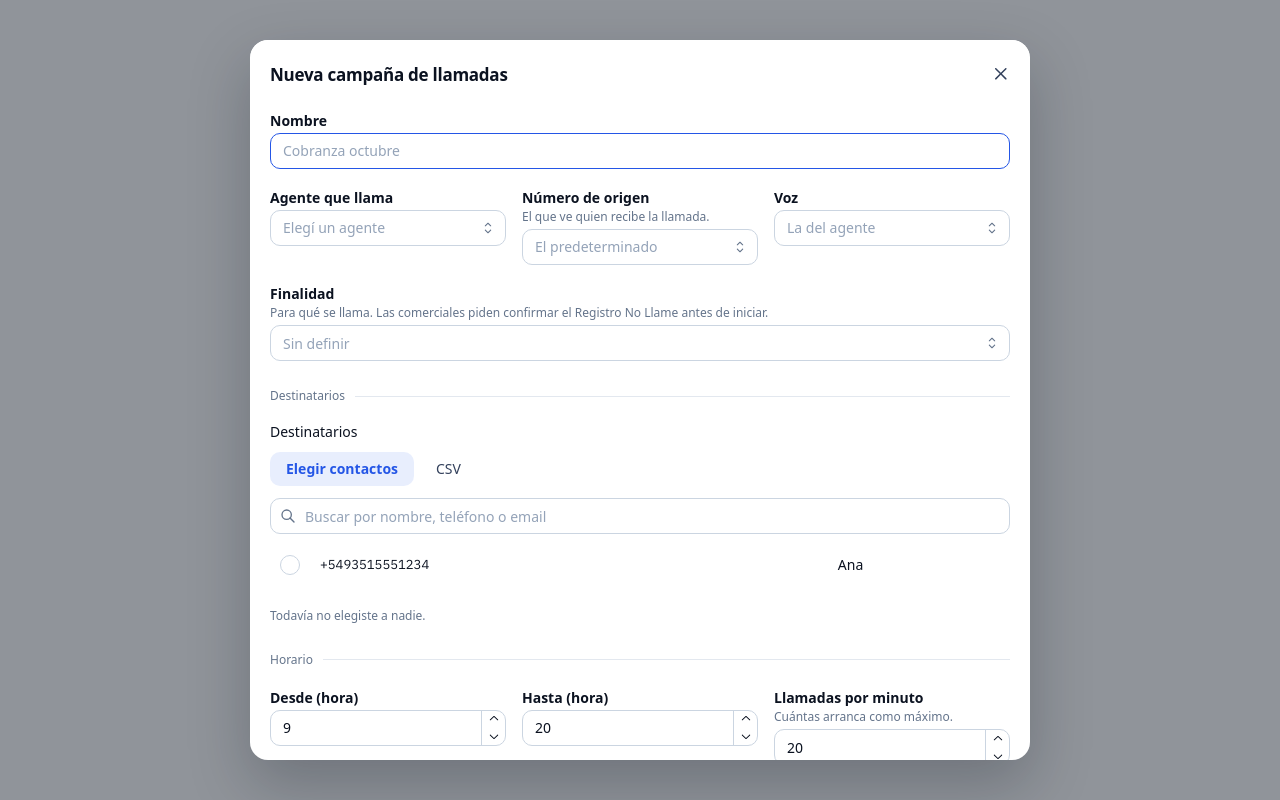
Test: campañas: alta de llamadas › sin destinatarios no crea
Type "Vacía" into the field labelled "Nombre". click: x=640, y=151
box: [270,133,1010,169]
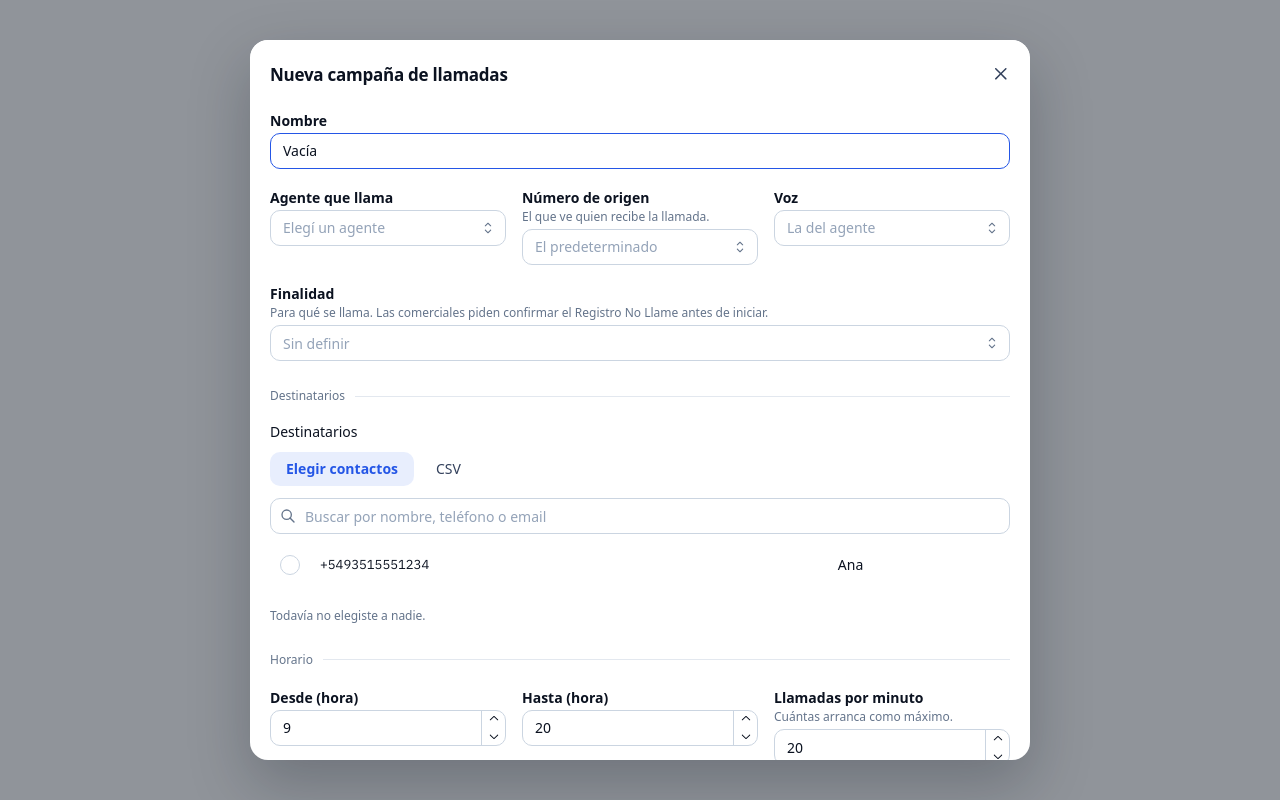
Click the field labelled "Agente que llama". click: x=388, y=228
box: [270,210,506,246]
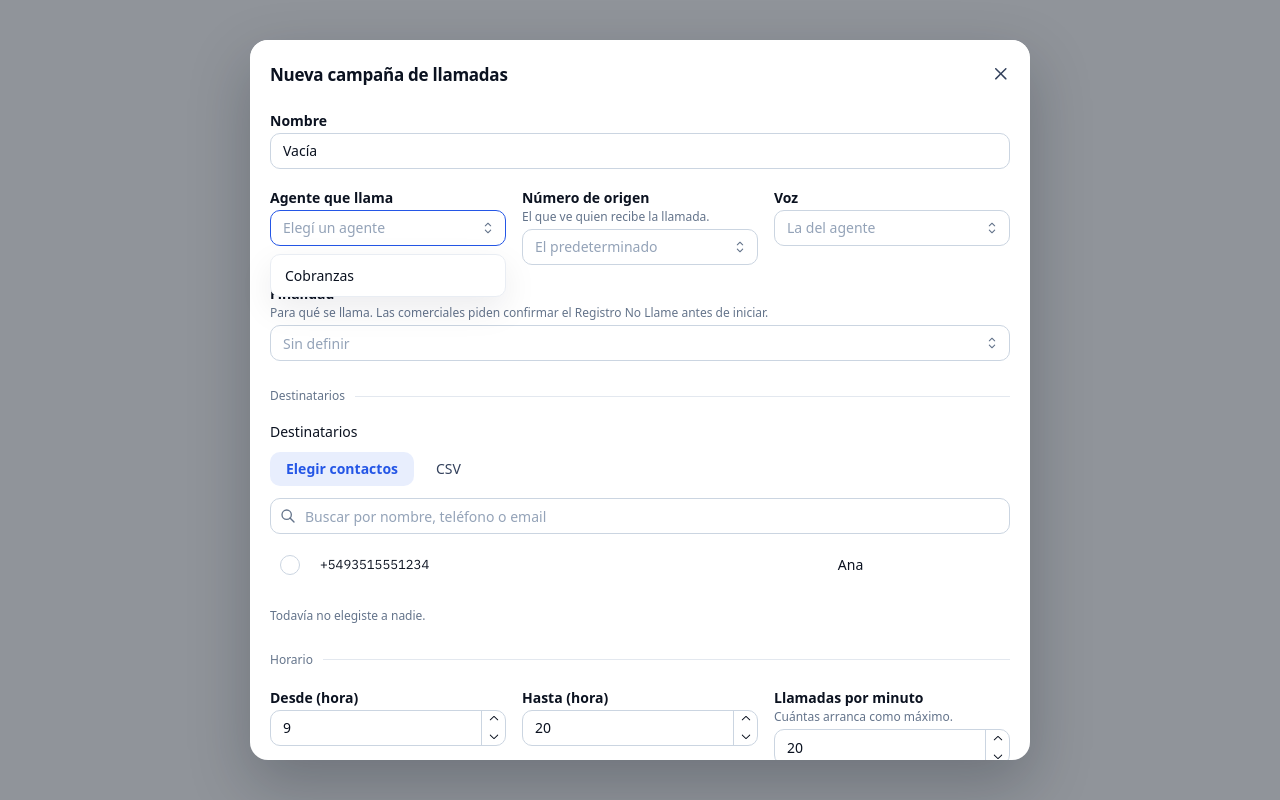
Click the option "Cobranzas". click: x=320, y=275
box: [285,266,354,285]
(page scrolled)
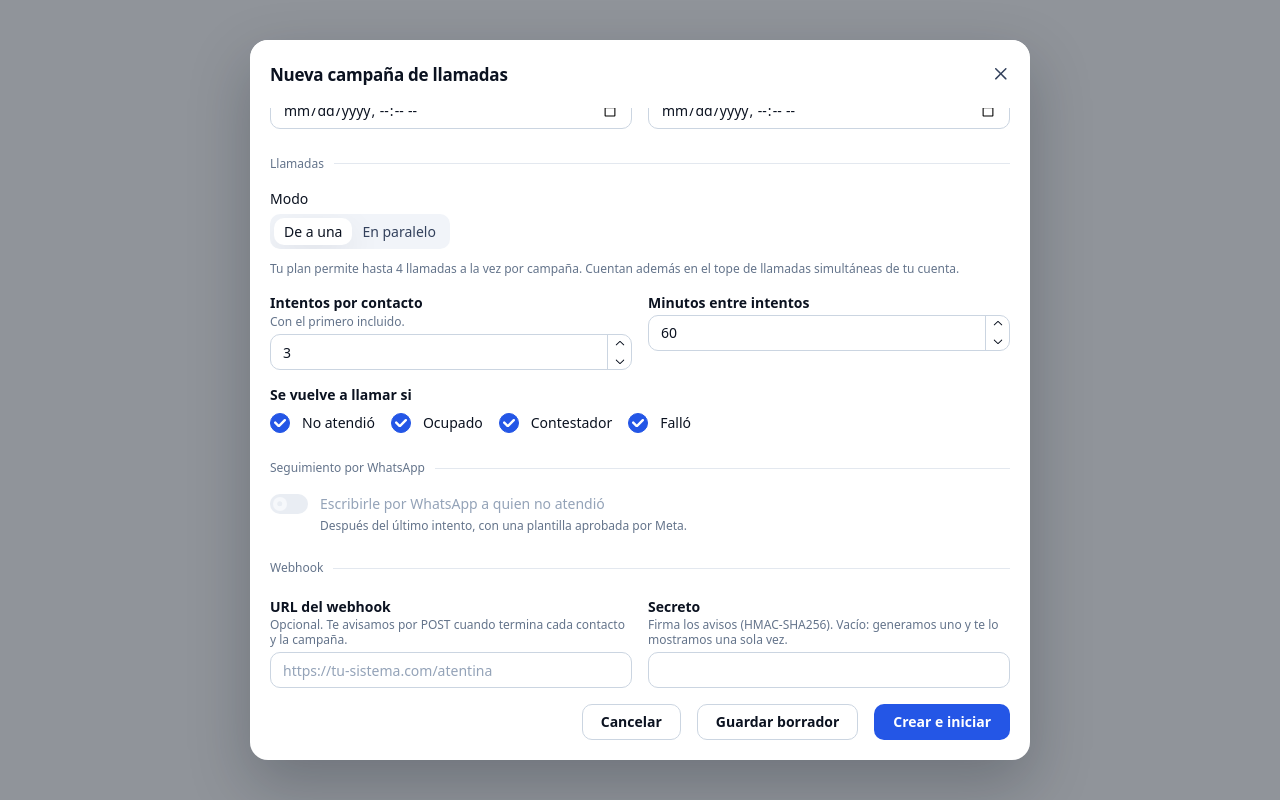
Click the button "Guardar borrador". click: x=778, y=722
box: [697,704,858,740]
(page scrolled)
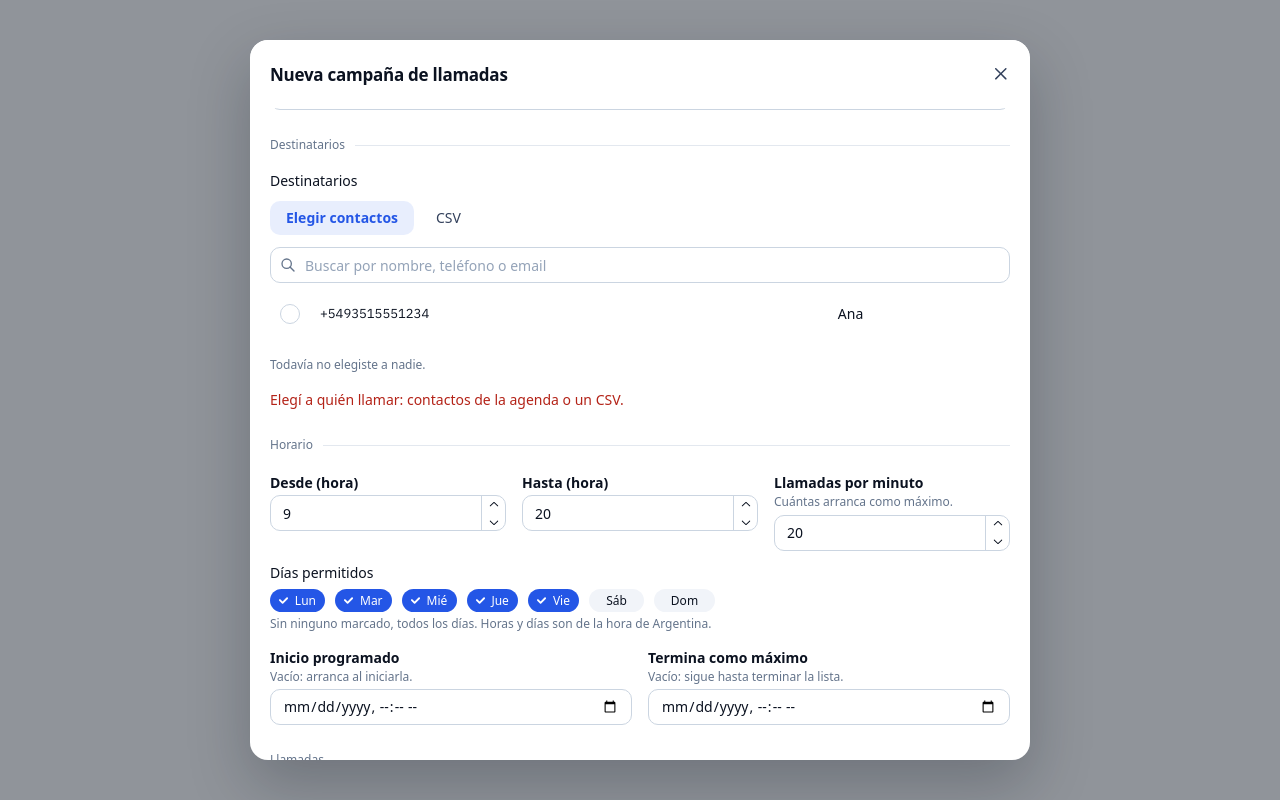
Now the text "Elegí a quién llamar: contactos de la agenda o un CSV." is shown, box [270,390,624,408]
